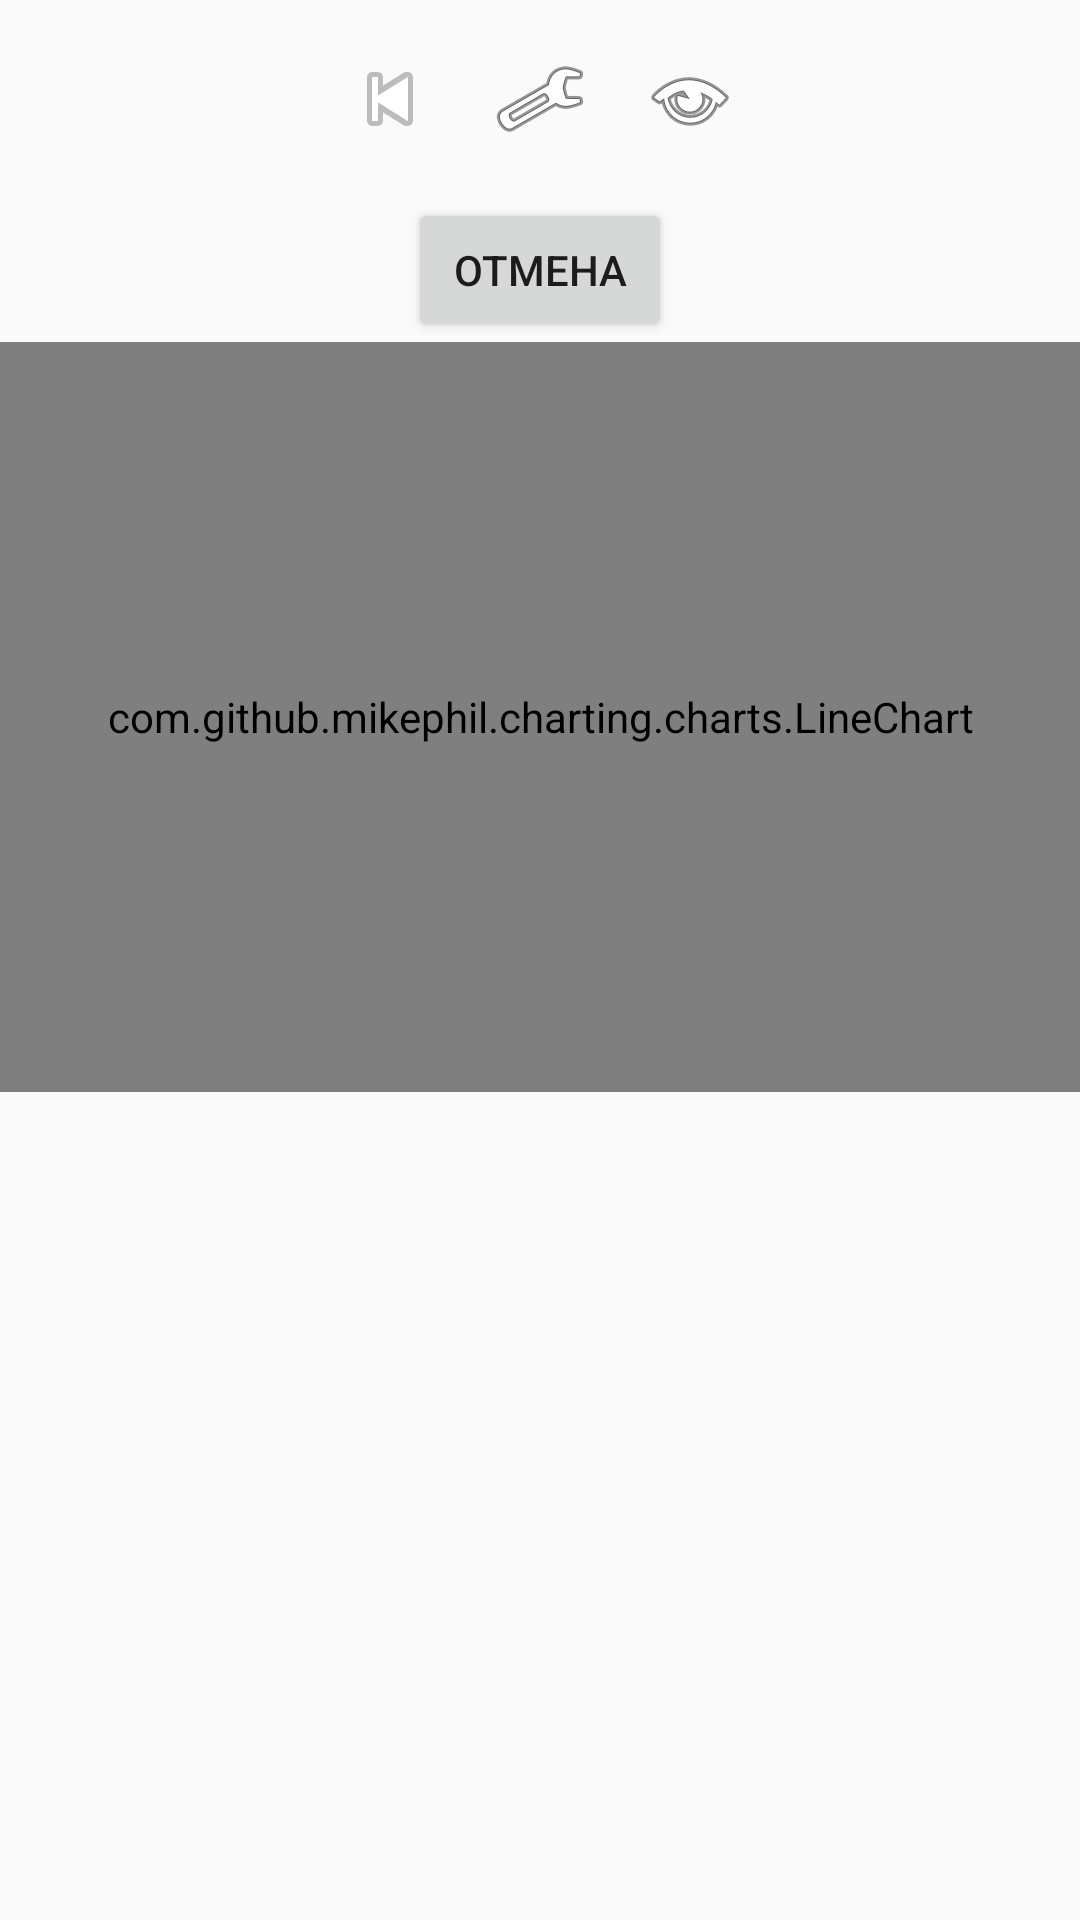

Locate icon controls on the screen. Image size 1080 x 1920, boxes as bbox=[x1, y1, x2, y2].
preferences: bbox=[497, 66, 583, 132]
previous: bbox=[367, 72, 413, 126]
view: bbox=[651, 77, 729, 126]
